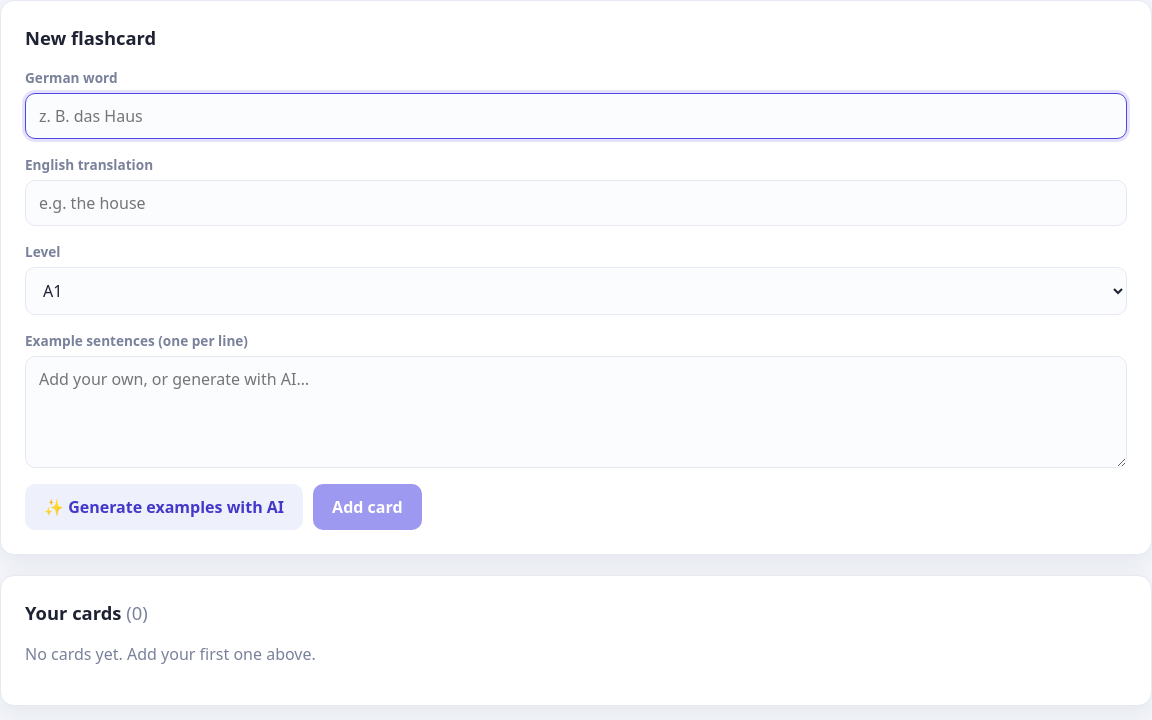
Test: AddCard › surfaces an error when generation fails
Step 1. Type "die Katze" into the field with placeholder "z. B. das Haus" → (576, 116), box [25,93,1127,139]
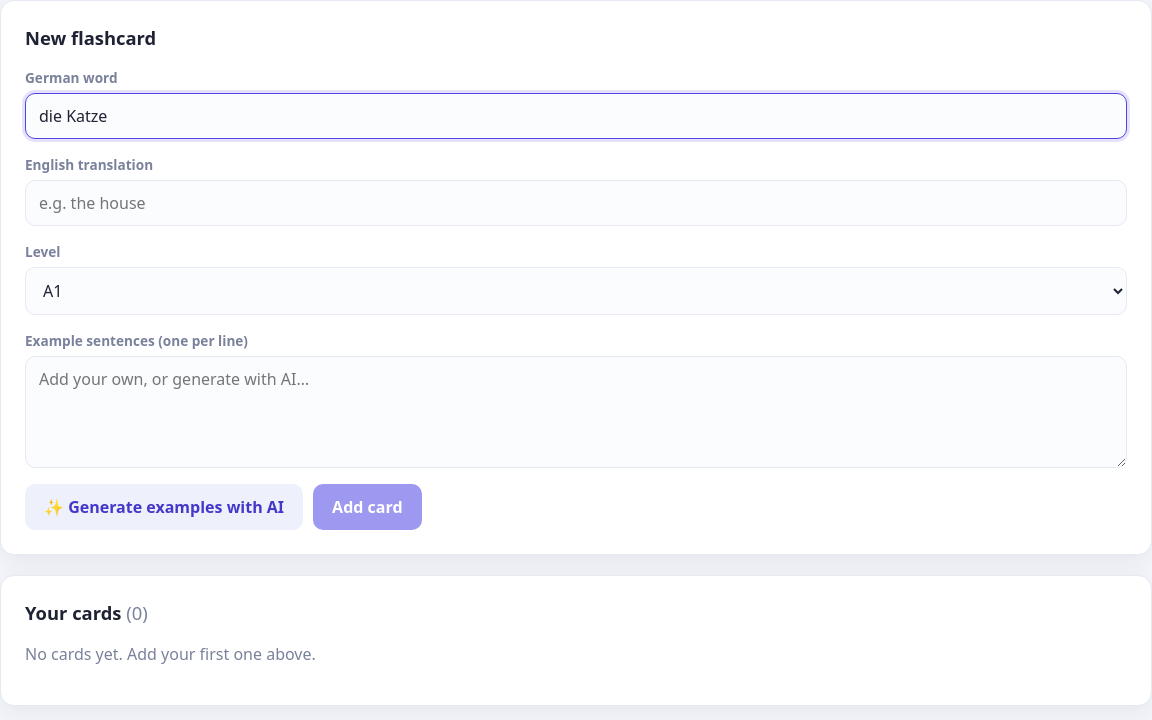
Step 2. Type "the cat" into the field with placeholder "e.g. the house" → (576, 203), box [25,180,1127,226]
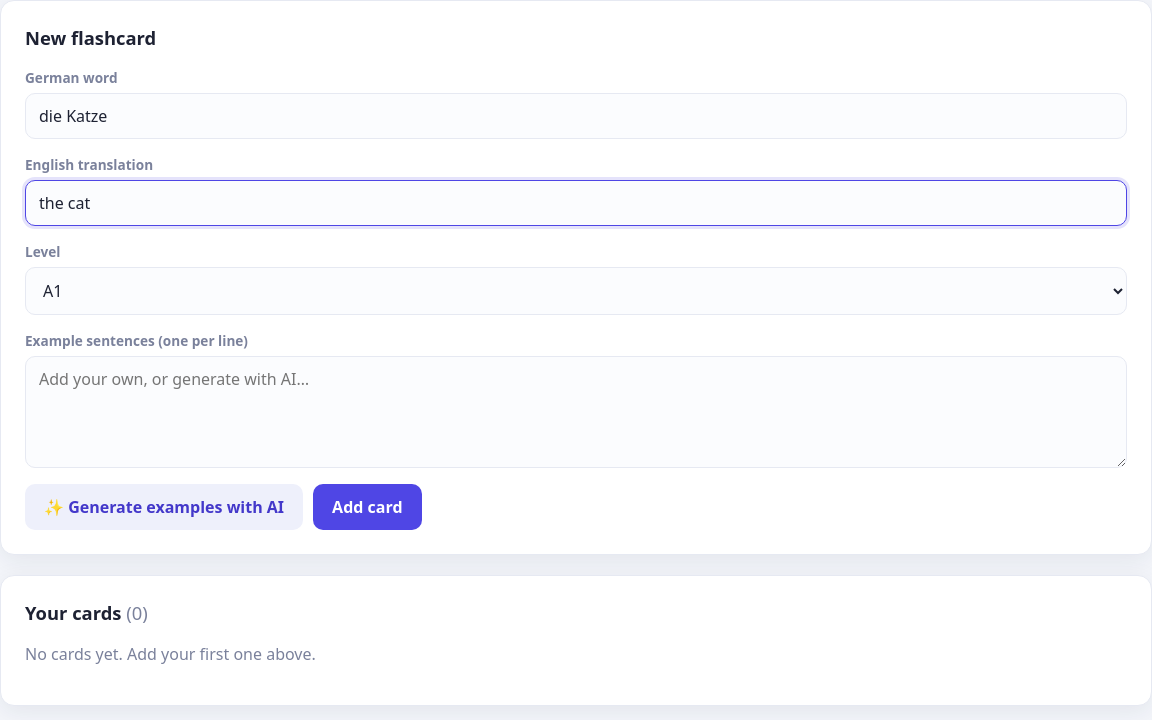
Step 3. Click the button "✨ Generate examples with AI" → (164, 507), box [25,484,303,530]
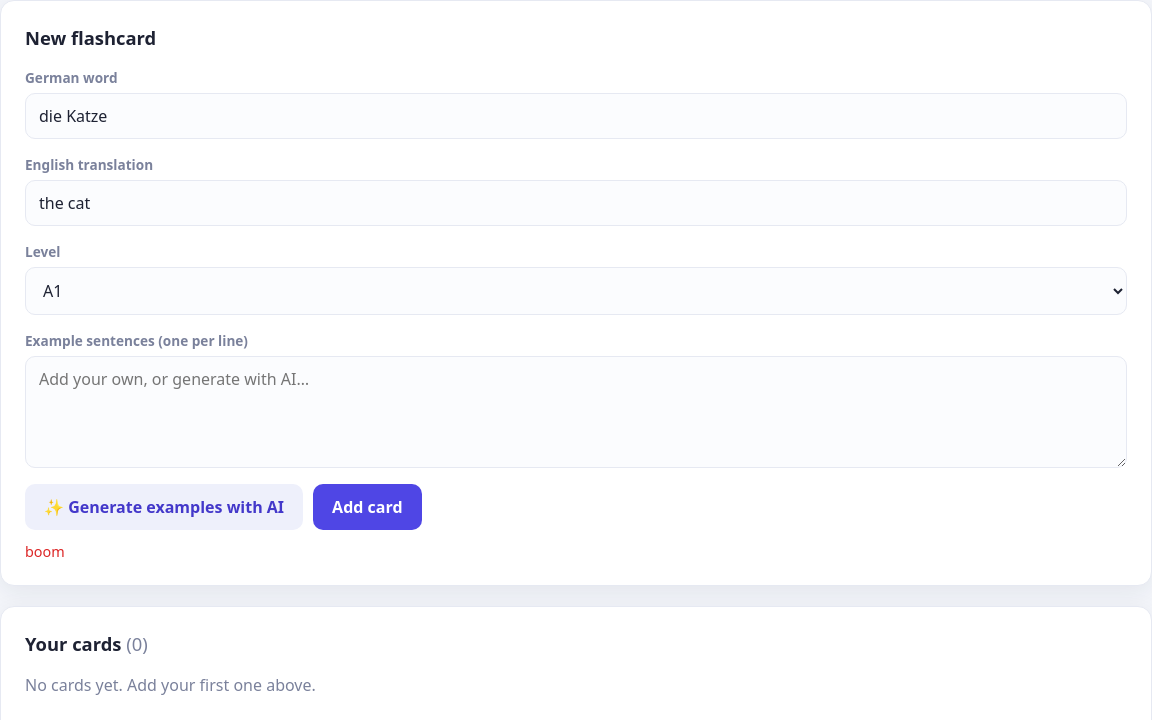
Expected: the text "boom" is shown, [25,542,65,561]
